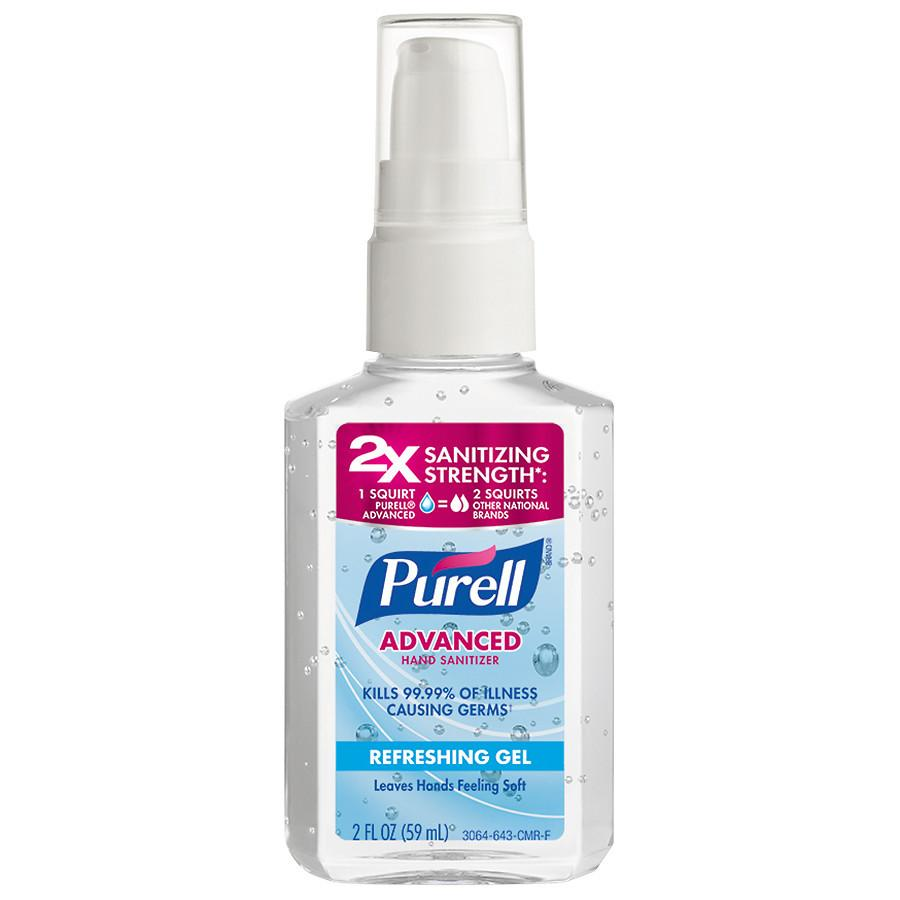Sanitizer: (274, 7, 630, 894)
